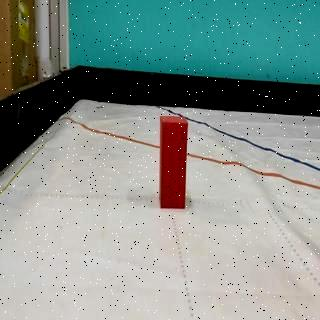redbox: (160, 114, 188, 210)
